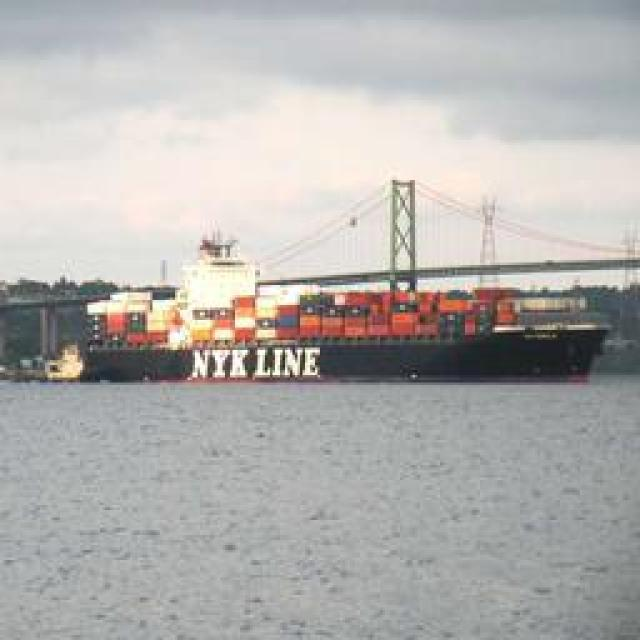CIV_Ship: (81, 278, 604, 382)
